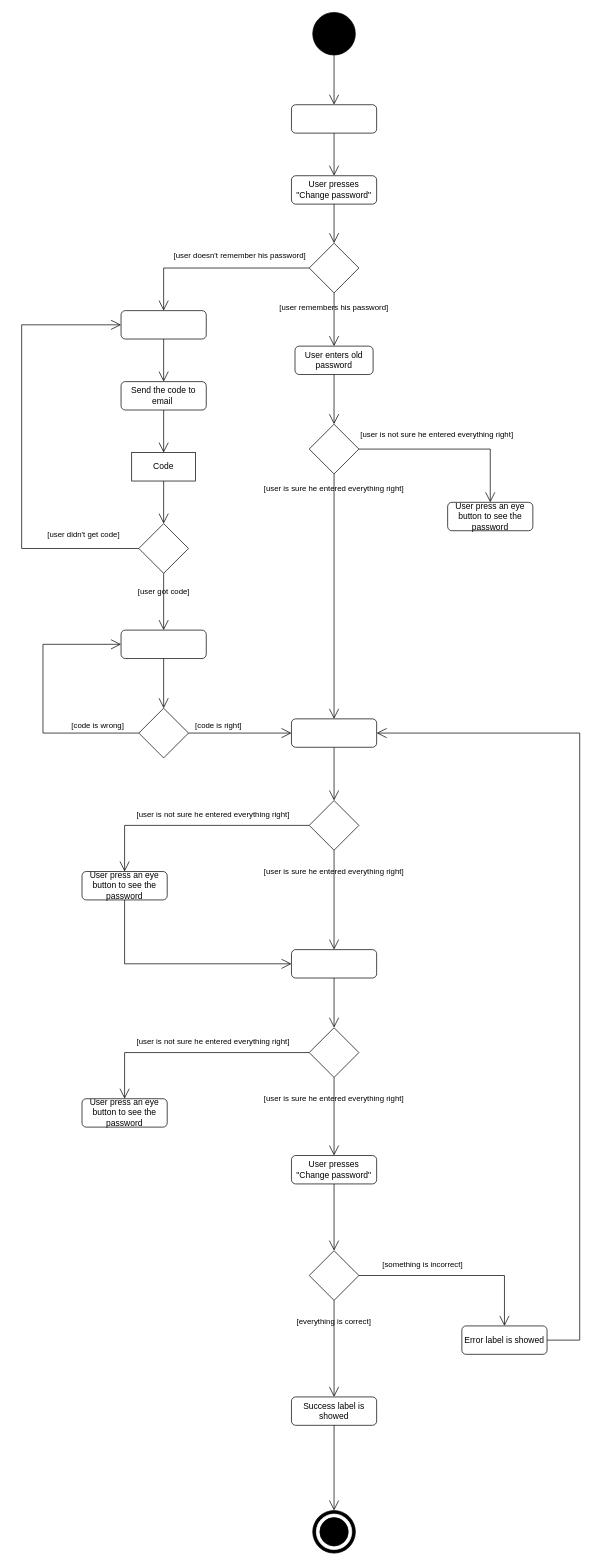
The diagram is 602 pixels wide and 1566 high, and some of its shapes have lost their labels. Each missing label, with the centre of its shape:
User confirms new password: pixel 334 963
User enters code: pixel 163 644
User enters new password: pixel 334 732
User goes to profile page: pixel 334 118
User presses "Forgot password": pixel 163 324
